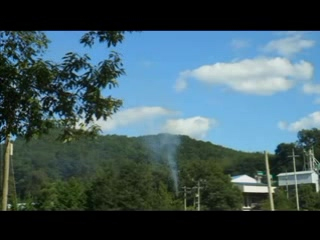smoke: (144, 132, 184, 199)
